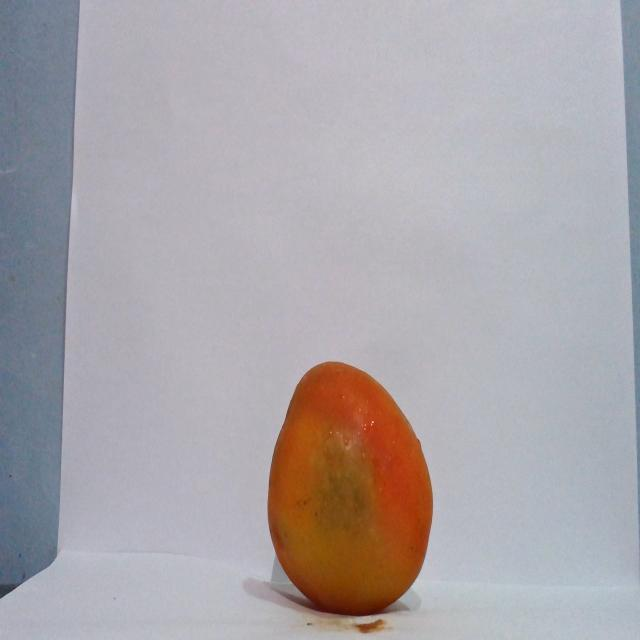Red: (265, 359, 434, 616)
